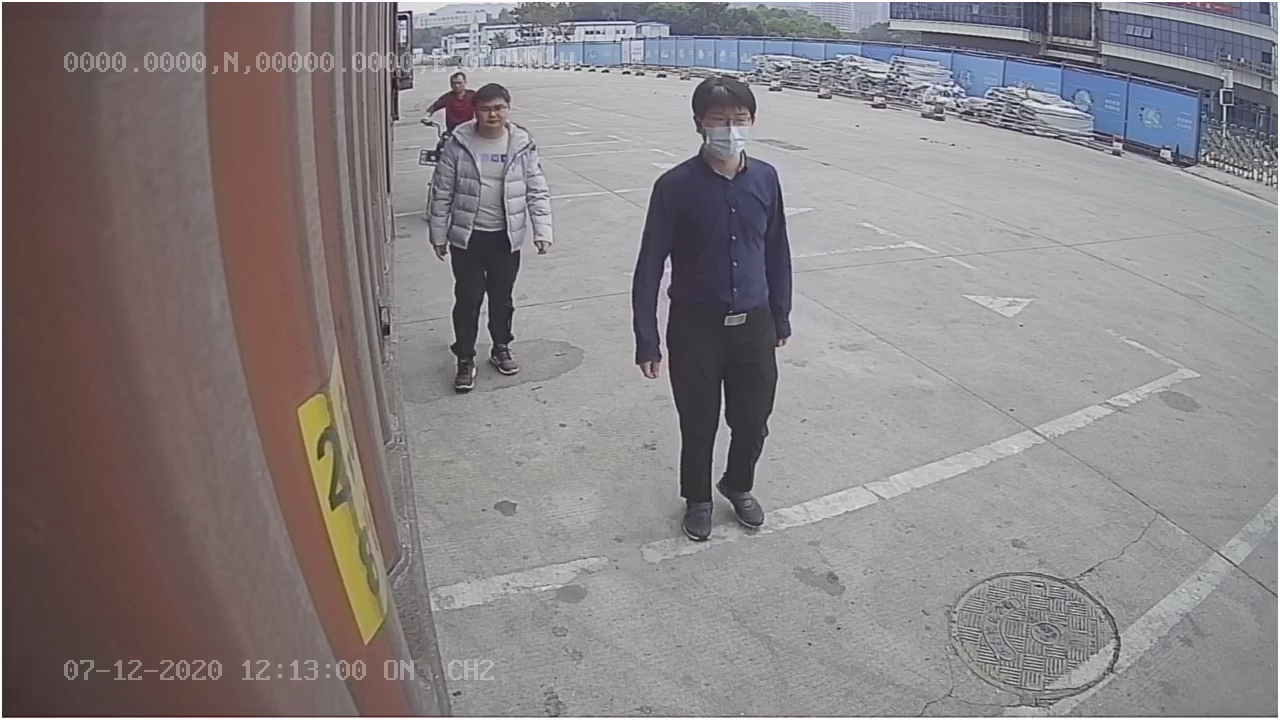person: (632, 68, 798, 542)
